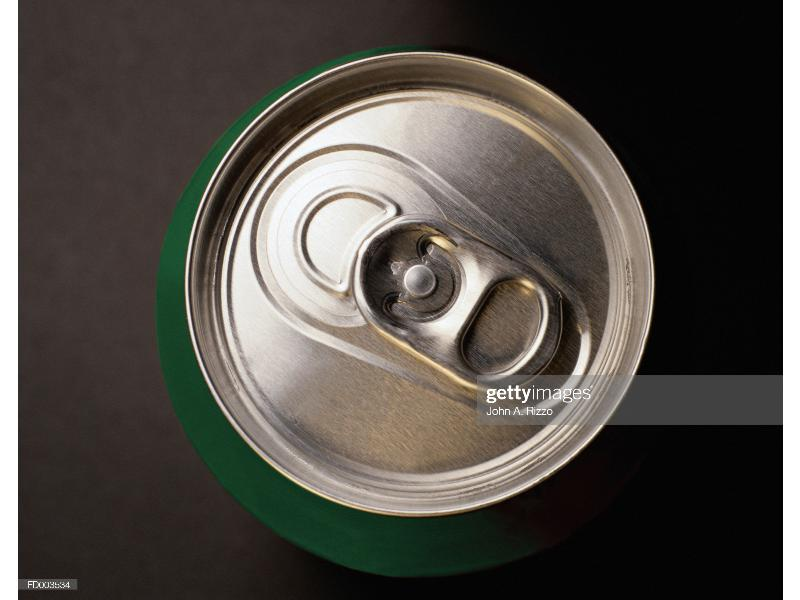can: (140, 37, 673, 567)
